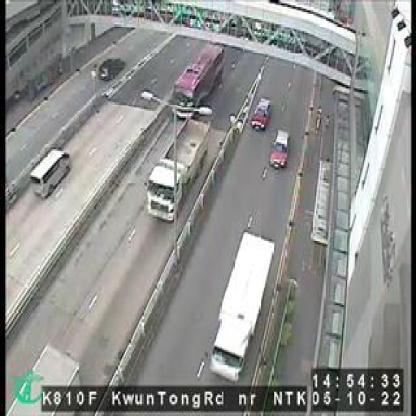Bus: (172, 43, 224, 116)
Car: (30, 147, 70, 196), (268, 127, 290, 166), (250, 96, 270, 128), (98, 55, 122, 80)
Truck: (207, 230, 273, 379), (146, 118, 209, 222)
